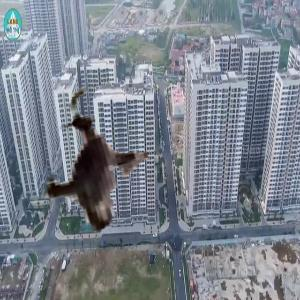drone: (13, 81, 200, 268)
